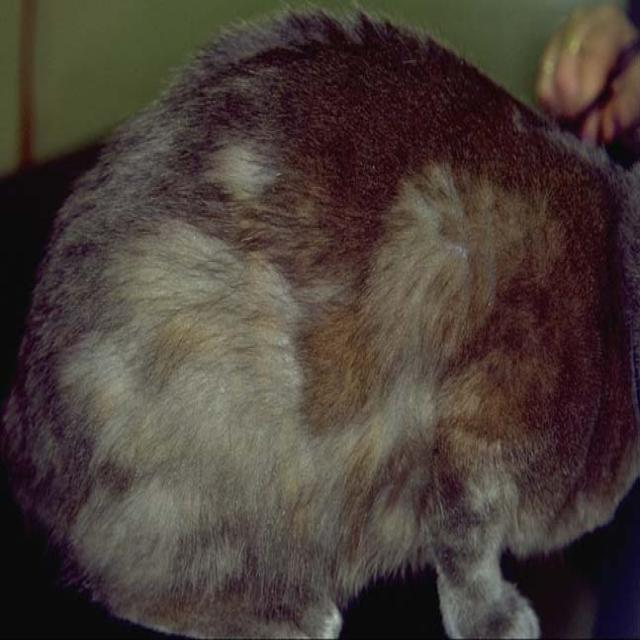cat-hairloss: (130, 251, 318, 593), (389, 188, 503, 352), (337, 398, 446, 527), (209, 144, 268, 201)
